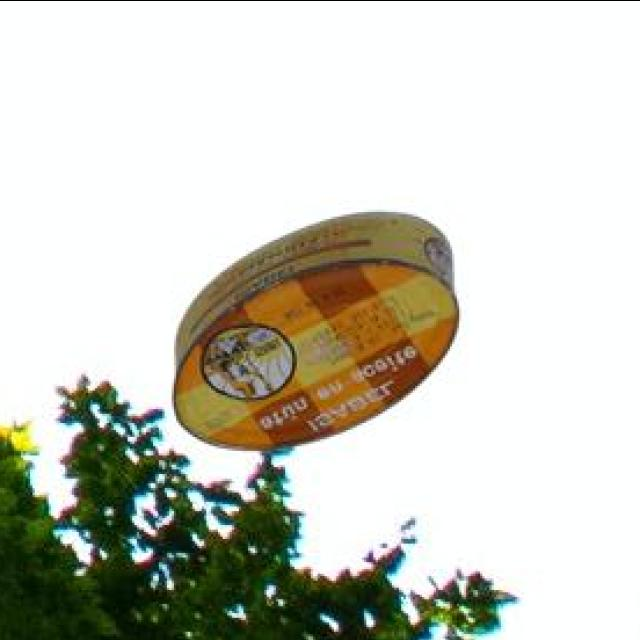logam: (177, 214, 463, 453)
